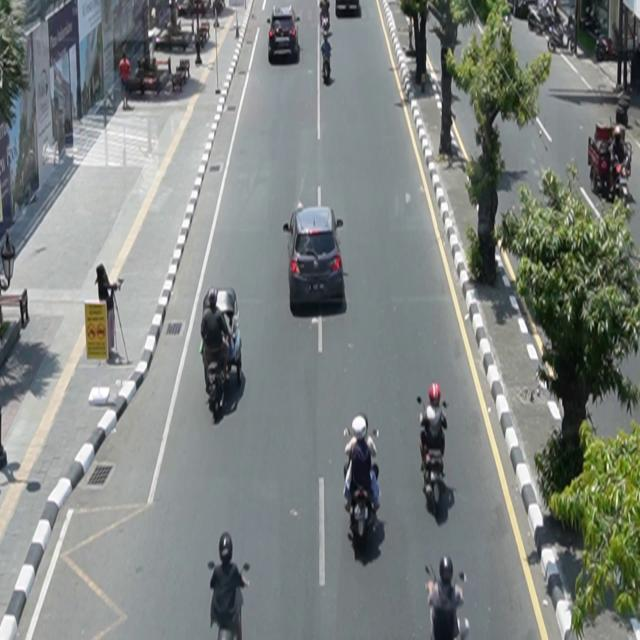car: (284, 202, 347, 314), (268, 5, 301, 64)
